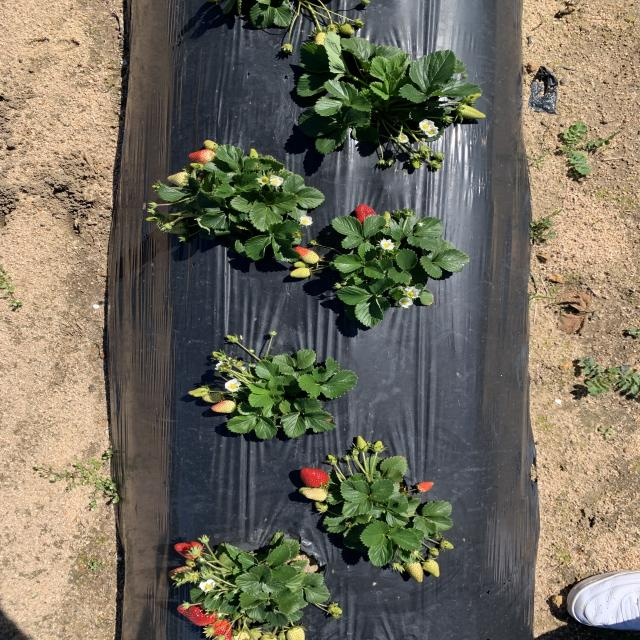unripe: (177, 604, 222, 624), (354, 203, 380, 229), (298, 466, 330, 487), (208, 618, 236, 640), (175, 542, 204, 558), (188, 149, 216, 164), (417, 481, 435, 492)
